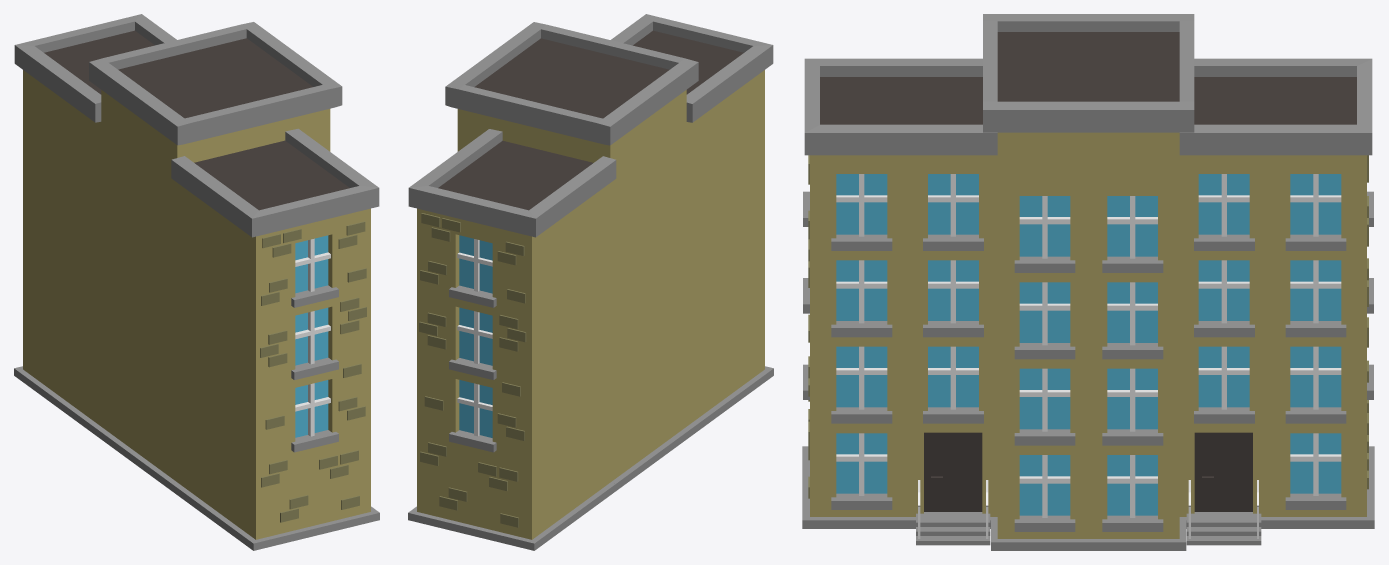
The model's file is Predio5.fbx.
3 views of the same model, side by side, from view 1: azimuth 30°, elevation 25°; view 2: azimuth 150°, elevation 25°; view 3: azimuth 270°, elevation 25° (orthographic). The views are drawn at different scales.
Parts seen in each view (by area): view 1: Cube, Cube.067, Cube.006, Cube.003; view 2: Cube, Cube.067, Cube.005, Cube.004; view 3: Cube, Cube.067, Cube.070, Cube.007, Cube.001, Cube.071, Cube.008, Cube.002, Cube.065, Cube.064, Cube.006.
Boxes of the visible parts, x1,y1,x2,y2 form: Cube: [14, 14, 379, 550]; Cube.067: [89, 22, 342, 490]; Cube.006: [291, 285, 338, 452]; Cube.003: [295, 238, 330, 436]; Cube: [408, 14, 773, 550]; Cube.067: [445, 22, 698, 490]; Cube.005: [449, 285, 496, 452]; Cube.004: [457, 239, 492, 436]; Cube: [802, 58, 1374, 528]; Cube.067: [983, 14, 1194, 550]; Cube.070: [1014, 256, 1163, 531]; Cube.007: [1194, 234, 1346, 509]; Cube.001: [831, 234, 983, 509]; Cube.071: [1019, 196, 1157, 517]; Cube.008: [1198, 174, 1341, 495]; Cube.002: [836, 174, 978, 495]; Cube.065: [1186, 512, 1261, 545]; Cube.064: [916, 512, 990, 545]; Cube.006: [803, 191, 809, 399].
Size of the model in its own units: 3242 by 6950 by 8160.
